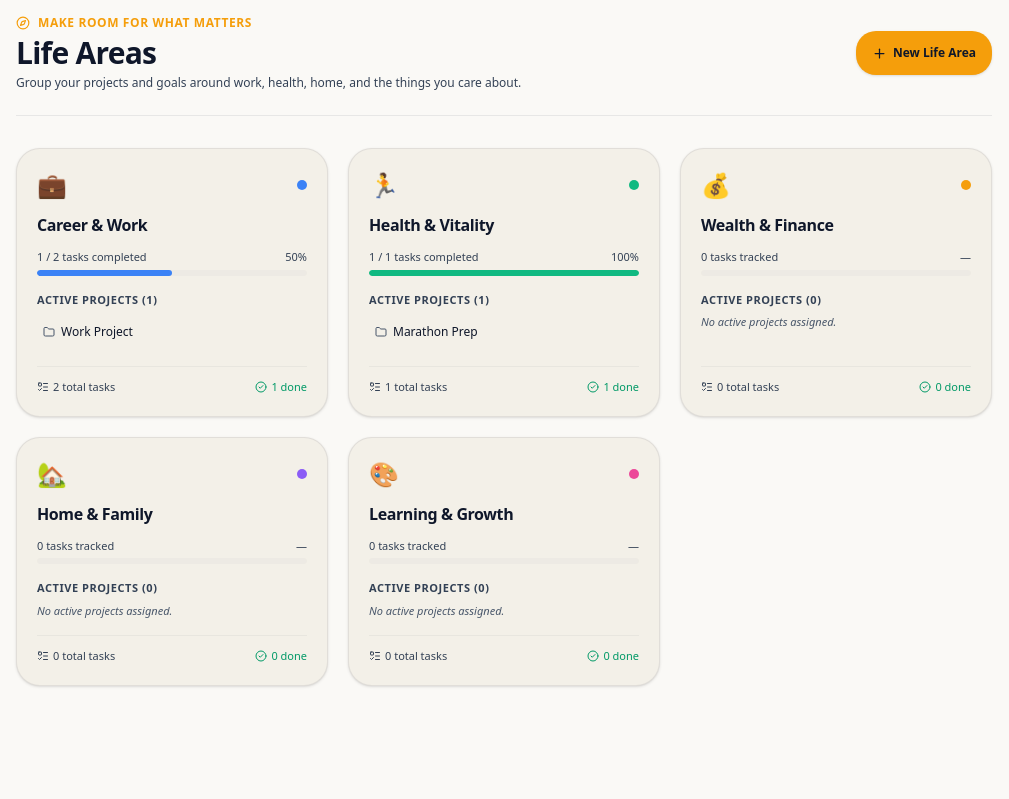
Test case: LifeAreasView › creates a new life area when form is submitted
Click the button with test id "create-area-button".
click(924, 53)  # box [856,31,992,75]
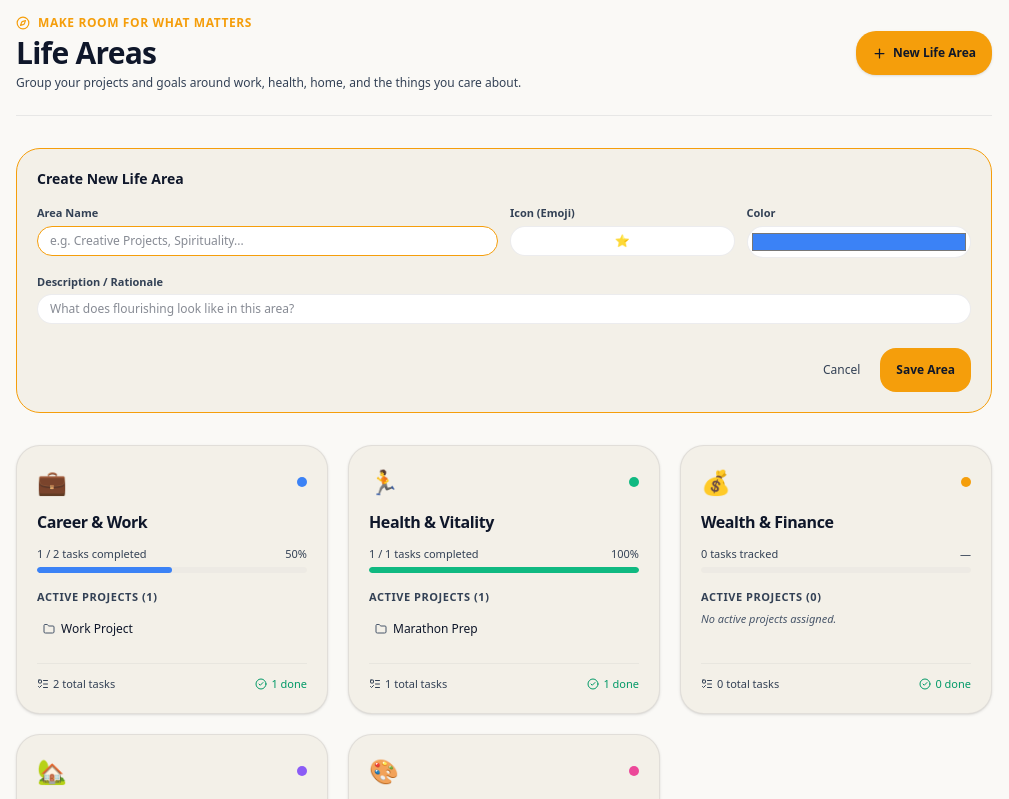
Type "Creative Arts & Writing" into the field with placeholder "e.g. Creative Projects, Spirituality...".
click(268, 240); type("Creative Arts & Writing")  # box [37,226,498,256]
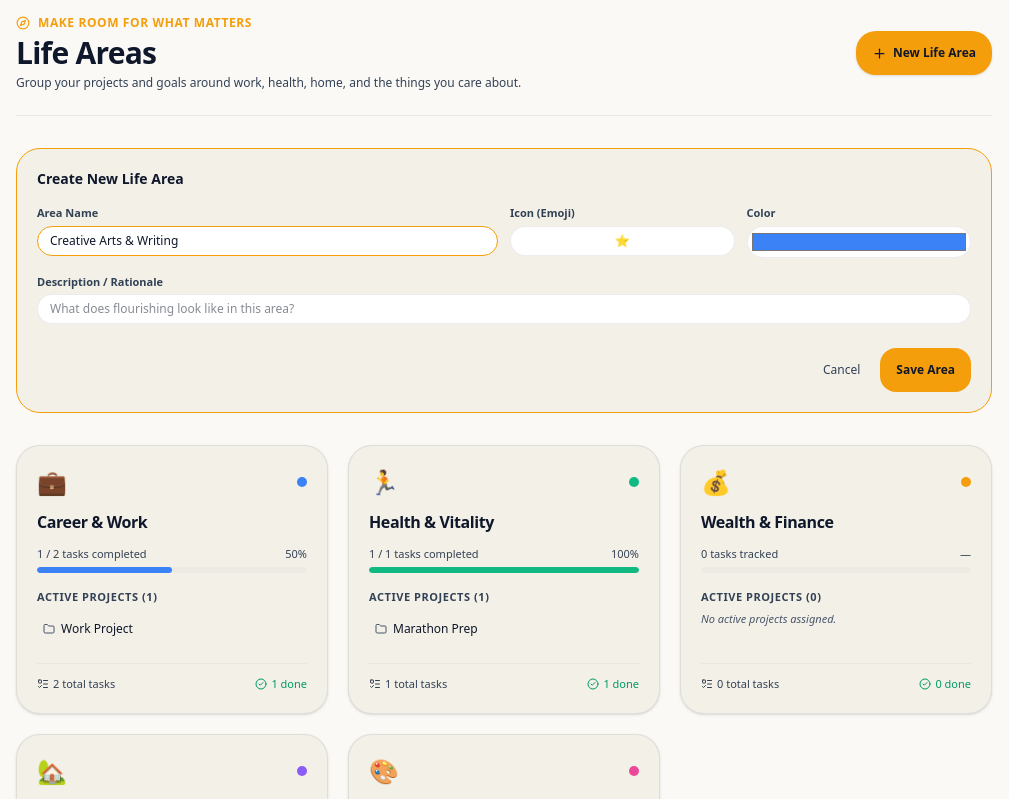
Click the button "Save Area".
click(926, 370)  # box [880,348,971,392]
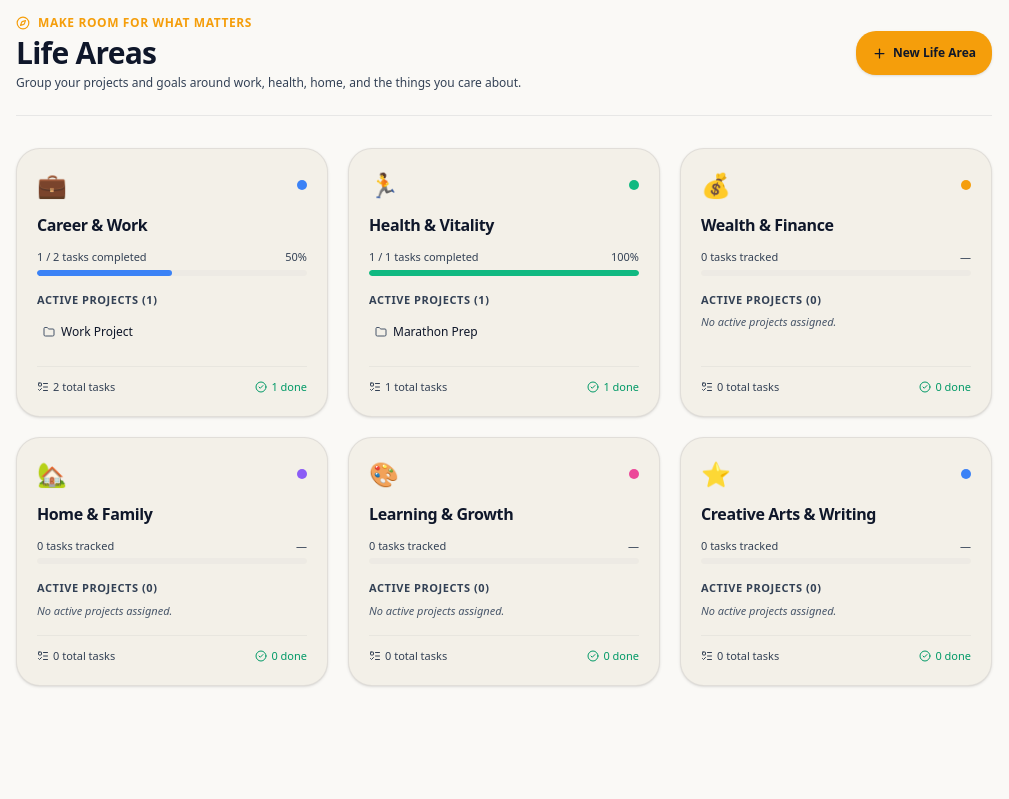
Now the button "Creative Arts & Writing" is shown, box [701,502,876,526]
